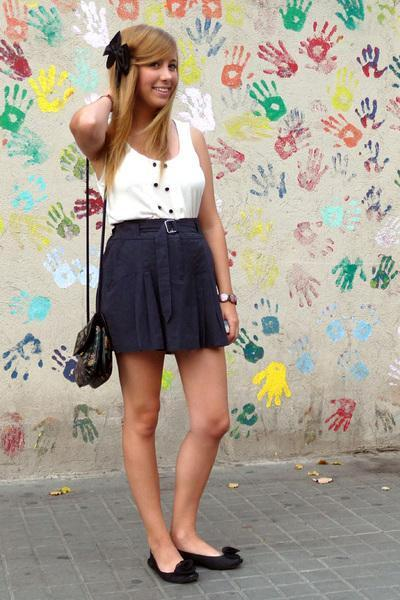bag: (84, 308, 126, 387)
shirt: (96, 113, 204, 222)
shoe: (147, 547, 242, 584)
skirt: (87, 228, 236, 358)
